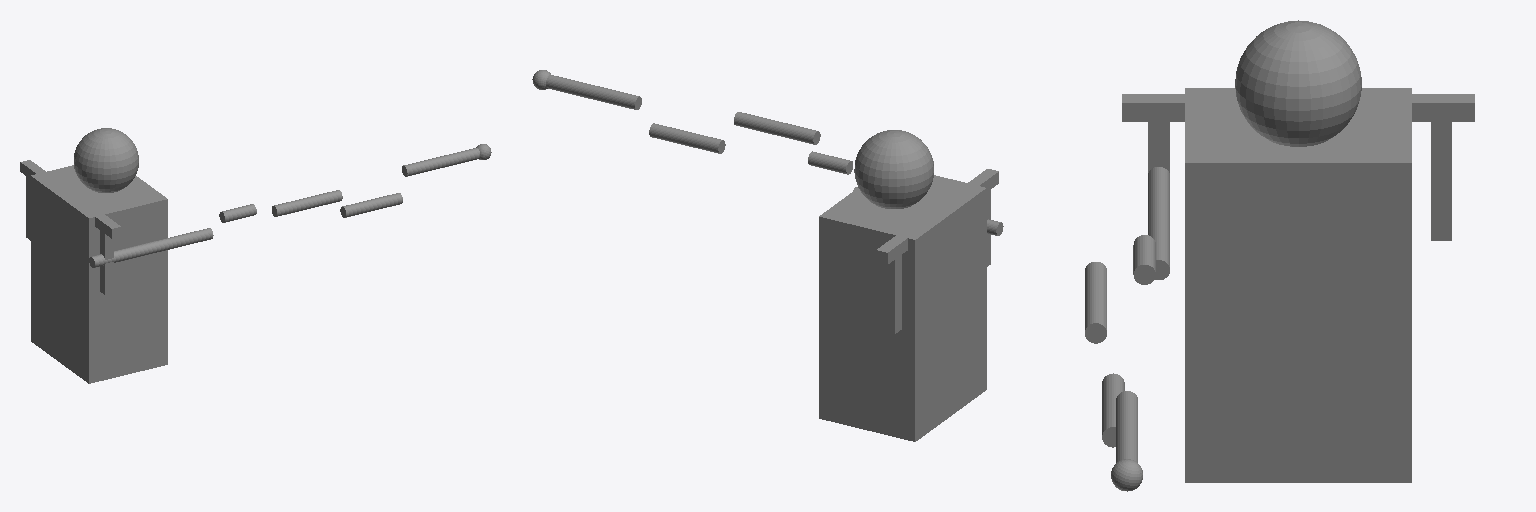
robot.urdf — arm_demo:
<?xml version="1.0" encoding="utf-8"?>
<!-- =================================================================================== -->
<!-- |    This document was autogenerated by xacro from 4dof_robot.xacro               | -->
<!-- |    EDITING THIS FILE BY HAND IS NOT RECOMMENDED                                 | -->
<!-- =================================================================================== -->
<robot name="arm_demo">
  <!-- *************************** XACRO MACROS *************************** -->
  <!-- ************************* ROBOT DEFINITION ************************* -->
  <link name="world"/>
  <link name="shoulder_len">
    <visual>
      <origin rpy="0 0 0" xyz="0 .2475 0"/>
      <geometry>
        <box size="0.03 0.5 0.03"/>
      </geometry>
      <material name="silver">
        <color rgba="0.6 0.6 0.6 1"/>
      </material>
    </visual>
    <collision>
      <origin rpy="0 0 0" xyz="0 -.2475 0"/>
      <geometry>
        <box size="0.03 0.5 0.03"/>
      </geometry>
    </collision>
    <inertial>
      <origin rpy="0 0 0" xyz="0 .2475 0"/>
      <mass value="1.0"/>
      <inertia ixx=".021" ixy="0.0" ixz="0.0" iyy=".021" iyz="0.0" izz=".00015"/>
    </inertial>
  </link>
  <link name="body">
    <visual>
      <origin rpy="0 0 0" xyz=".09 0.2475 -.25"/>
      <geometry>
        <box size="0.25 0.32 .5"/>
      </geometry>
      <material name="silver">
        <color rgba="0.6 0.6 0.6 1"/>
      </material>
    </visual>
    <collision>
      <origin rpy="0 0 0" xyz=".09 0.2475 -.25"/>
      <geometry>
        <box size="0.18 0.32 0.5"/>
      </geometry>
    </collision>
    <inertial>
      <origin rpy="0 0 0" xyz=".09 .2475 -.25"/>
      <mass value="1.0"/>
      <inertia ixx=".112" ixy="0.0" ixz="0.0" iyy=".029" iyz="0.0" izz=".0235"/>
    </inertial>
  </link>
  <link name="head">
    <visual>
      <origin rpy="0 0 0" xyz=".09 0.2475 .09"/>
      <geometry>
        <sphere radius="0.09"/>
      </geometry>
      <material name="silver">
        <color rgba="0.6 0.6 0.6 1"/>
      </material>
    </visual>
    <collision>
      <origin rpy="0 0 0" xyz=".09 0.2475 .09"/>
      <geometry>
        <sphere radius="0.09"/>
      </geometry>
    </collision>
    <inertial>
      <origin rpy="0 0 0" xyz=".09 0.2475 .09"/>
      <mass value="1.0"/>
      <inertia ixx=".00324" ixy="0.0" ixz="0.0" iyy=".00324" iyz="0.0" izz=".00324"/>
    </inertial>
  </link>
  <link name="rodR">
    <visual>
      <origin rpy="0 0 0" xyz="0 .02 -.1"/>
      <geometry>
        <box size="0.03 0.03 0.2"/>
      </geometry>
      <material name="silver">
        <color rgba="0.6 0.6 0.6 1"/>
      </material>
    </visual>
    <collision>
      <origin rpy="0 0 0" xyz="0 -.025 -.1"/>
      <geometry>
        <box size="0.03 0.03 0.2"/>
      </geometry>
    </collision>
    <inertial>
      <origin rpy="0 0 0" xyz="0 -.025 -.1"/>
      <mass value="1.0"/>
      <inertia ixx=".0034" ixy="0.0" ixz="0.0" iyy=".0034" iyz="0.0" izz=".00015"/>
    </inertial>
  </link>
  <link name="rodL">
    <visual>
      <origin rpy="0 0 0" xyz="0 -.025 -.1"/>
      <geometry>
        <box size="0.03 0.03 0.2"/>
      </geometry>
      <material name="silver">
        <color rgba="0.6 0.6 0.6 1"/>
      </material>
    </visual>
    <collision>
      <origin rpy="0 0 0" xyz="0 -.025 -.1"/>
      <geometry>
        <box size="0.03 0.03 0.2"/>
      </geometry>
    </collision>
    <inertial>
      <origin rpy="0 0 0" xyz="0 -.025 -.1"/>
      <mass value="1.0"/>
      <inertia ixx=".0034" ixy="0.0" ixz="0.0" iyy=".0034" iyz="0.0" izz=".00015"/>
    </inertial>
  </link>
  <joint name="right_arm" type="fixed">
    <parent link="world"/>
    <child link="rodR"/>
    <origin rpy="0 0 0" xyz="-.34 0.03 0.5"/>
  </joint>
  <joint name="left_arm" type="fixed">
    <parent link="world"/>
    <child link="rodL"/>
    <origin rpy="0 0 0" xyz="-.34 0.475 0.5"/>
  </joint>
  <joint name="base_base" type="fixed">
    <parent link="world"/>
    <child link="motor1/INPUT_INTERFACE"/>
    <origin rpy="0 0 0" xyz="0 0.03 0.4"/>
  </joint>
  <joint name="base_s" type="fixed">
    <parent link="world"/>
    <child link="ms1/INPUT_INTERFACE"/>
    <origin rpy="0 0 0" xyz="0 0.03 0.4"/>
  </joint>
  <joint name="shoulder" type="fixed">
    <parent link="world"/>
    <child link="shoulder_len"/>
    <origin rpy="0 0 0" xyz="-.34 0 0.5"/>
  </joint>
  <joint name="body" type="fixed">
    <parent link="world"/>
    <child link="body"/>
    <origin rpy="0 0 0" xyz="-.34 0 0.515"/>
  </joint>
  <joint name="head" type="fixed">
    <parent link="world"/>
    <child link="head"/>
    <origin rpy="0 0 0" xyz="-.318 0 0.5"/>
  </joint>
  <link name="motor1/INPUT_INTERFACE">
    <visual>
      <origin rpy="0 0 0" xyz="0 0 0"/>
      <geometry>
        <mesh filename="package://hebi_description/meshes/X5.stl" scale="0.001 0.001 0.001"/>
      </geometry>
      <material name="red">
        <color rgba=".82 0.06 0.06 1"/>
      </material>
    </visual>
    <collision>
      <origin rpy="0 0 0" xyz="0 0 0"/>
      <geometry>
        <mesh filename="package://hebi_description/meshes/X5.stl" scale="0.001 0.001 0.001"/>
      </geometry>
    </collision>
    <inertial>
      <origin rpy="0 0 0" xyz="-0.0142 -0.0031 0.0165"/>
      <mass value="0.322"/>
      <mass value="0.360"/>
      <inertia ixx="0.00015" ixy="0.0000341" ixz="0.0000118" iyy="0.000255" iyz="0.00000229" izz="0.000350"/>
    </inertial>
  </link>
  <joint name="motor1/X5_9" type="continuous">
    <parent link="motor1/INPUT_INTERFACE"/>
    <child link="right_arm1/INPUT_INTERFACE"/>
    <origin rpy="0 0 0" xyz="0 0 0.031"/>
    <axis xyz="0 0 1"/>
    <limit effort="13.0" velocity="14"/>
    <dynamics damping="0.1" friction="0.1"/>
  </joint>
  <gazebo reference="motor1/INPUT_INTERFACE">
    <selfCollide>true</selfCollide>
    <gravity>true</gravity>
    <sensor name="motor1/imu_sensor" type="imu">
      <always_on>true</always_on>
      <update_rate>100</update_rate>
      <visualize>true</visualize>
      <plugin filename="libgazebo_imu_sensor.so" name="imu_plugin">
        <topicName>/hebi_gazebo_plugin/imu/motor1</topicName>
        <bodyName>motor1/imu_link</bodyName>
        <updateRateHZ>10.0</updateRateHZ>
        <gaussianNoise>0.0</gaussianNoise>
        <xyzOffset>0.025 0 0.003</xyzOffset>
        <rpyOffset>0 0 0</rpyOffset>
        <frameName>motor1/imu_link</frameName>
      </plugin>
      <pose>0 0 0 0 0 0</pose>
    </sensor>
  </gazebo>
  <link name="ms1/INPUT_INTERFACE">
    <visual>
      <origin rpy="0 0 0" xyz="0 0 0"/>
      <geometry>
        <mesh filename="package://hebi_description/meshes/A-2039-02.stl"/>
      </geometry>
      <material name="black">
        <color rgba="0 0 0 1"/>
      </material>
    </visual>
    <visual>
      <origin rpy="0 1.57075 0" xyz="-0.2 0.02 0"/>
      <geometry>
        <cylinder length="0.3746" radius=".016"/>
      </geometry>
      <material name="silver">
        <color rgba="0.6 0.6 0.6 1"/>
      </material>
    </visual>
    <collision>
      <origin rpy="0 1.57079632679 0" xyz="0 0 0"/>
      <geometry>
        <mesh filename="package://hebi_description/meshes/A-2038-02.stl"/>
      </geometry>
    </collision>
    <collision>
      <origin rpy="0 1.57075 0" xyz="0.2 -0.02 0"/>
      <geometry>
        <cylinder length="0.3746" radius=".016"/>
      </geometry>
    </collision>
    <collision>
      <origin rpy="0 0 0" xyz="0.4 0.0 0.04"/>
      <geometry>
        <mesh filename="package://hebi_description/meshes/A-2039-02.stl"/>
      </geometry>
    </collision>
    <!-- Approximate inertia as thin rod about x axis -->
    <inertial>
      <origin rpy="0 0 0" xyz="0.2 0 0.02"/>
      <mass value="0.432"/>
      <inertia ixx="0.0" ixy="0.0" ixz="0.0" iyy="0.00576" iyz="0.0" izz="0.00576"/>
    </inertial>
  </link>
  <gazebo reference="ms1/INPUT_INTERFACE">
    <selfCollide>true</selfCollide>
  </gazebo>
  <link name="right_arm1/INPUT_INTERFACE">
    <visual>
      <origin rpy="0 0 0" xyz="0 0 0"/>
      <geometry>
        <mesh filename="package://hebi_description/meshes/A-2038-02.stl"/>
      </geometry>
      <material name="black">
        <color rgba="0 0 0 1"/>
      </material>
    </visual>
    <visual>
      <origin rpy="0 1.57075 0" xyz="0.0625 0 0.02"/>
      <geometry>
        <cylinder length="0.0996" radius=".016"/>
      </geometry>
      <material name="silver">
        <color rgba="0.6 0.6 0.6 1"/>
      </material>
    </visual>
    <visual>
      <origin rpy="1.3343 0 0" xyz="0.125 -0.0194432968708 0.0246859584714"/>
      <geometry>
        <mesh filename="package://hebi_description/meshes/A-2039-02.stl"/>
      </geometry>
      <material name="black">
        <color rgba="0 0 0 1"/>
      </material>
    </visual>
    <collision>
      <origin rpy="0 0 0" xyz="0 0 0"/>
      <geometry>
        <mesh filename="package://hebi_description/meshes/A-2038-02.stl"/>
      </geometry>
    </collision>
    <collision>
      <origin rpy="0 1.57075 0" xyz="0.0625 0 0.02"/>
      <geometry>
        <cylinder length="0.0996" radius=".016"/>
      </geometry>
    </collision>
    <collision>
      <origin rpy="1.3343 0 0" xyz="0.125 -0.0194432968708 0.0246859584714"/>
      <geometry>
        <mesh filename="package://hebi_description/meshes/A-2039-02.stl"/>
      </geometry>
    </collision>
    <!-- Approximate inertia as thin rod about x axis -->
    <inertial>
      <origin rpy="0 0 0" xyz="0.0625 0 0.02"/>
      <mass value="0.322"/>
      <inertia ixx="0.0" ixy="0.0" ixz="0.0" iyy="0.000419270833333" iyz="0.0" izz="0.000419270833333"/>
    </inertial>
  </link>
  <joint name="right_arm1/OUTPUT_JOINT" type="fixed">
    <parent link="right_arm1/INPUT_INTERFACE"/>
    <child link="motor2/INPUT_INTERFACE"/>
    <origin rpy="1.3343 0 0" xyz="0.125 -0.0194432968708 0.0246859584714"/>
  </joint>
  <gazebo reference="right_arm1/INPUT_INTERFACE">
    <selfCollide>true</selfCollide>
  </gazebo>
  <link name="motor2/INPUT_INTERFACE">
    <visual>
      <origin rpy="0 0 0" xyz="0 0 0"/>
      <geometry>
        <mesh filename="package://hebi_description/meshes/X5.stl" scale="0.001 0.001 0.001"/>
      </geometry>
      <material name="red">
        <color rgba=".82 0.06 0.06 1"/>
      </material>
    </visual>
    <collision>
      <origin rpy="0 0 0" xyz="0 0 0"/>
      <geometry>
        <mesh filename="package://hebi_description/meshes/X5.stl" scale="0.001 0.001 0.001"/>
      </geometry>
    </collision>
    <inertial>
      <origin rpy="0 0 0" xyz="-0.0142 -0.0031 0.0165"/>
      <mass value="0.322"/>
      <mass value="0.360"/>
      <inertia ixx="0.00015" ixy="0.0000341" ixz="0.0000118" iyy="0.000255" iyz="0.00000229" izz="0.000350"/>
    </inertial>
  </link>
  <joint name="motor2/X5_9" type="continuous">
    <parent link="motor2/INPUT_INTERFACE"/>
    <child link="right_arm2/INPUT_INTERFACE"/>
    <origin rpy="0 0 0" xyz="0 0 0.031"/>
    <axis xyz="0 0 1"/>
    <limit effort="13.0" velocity="14"/>
    <dynamics damping="0.1" friction="0.1"/>
  </joint>
  <gazebo reference="motor2/INPUT_INTERFACE">
    <selfCollide>true</selfCollide>
    <gravity>true</gravity>
    <sensor name="motor2/imu_sensor" type="imu">
      <always_on>true</always_on>
      <update_rate>100</update_rate>
      <visualize>true</visualize>
      <plugin filename="libgazebo_imu_sensor.so" name="imu_plugin">
        <topicName>/hebi_gazebo_plugin/imu/motor2</topicName>
        <bodyName>motor2/imu_link</bodyName>
        <updateRateHZ>10.0</updateRateHZ>
        <gaussianNoise>0.0</gaussianNoise>
        <xyzOffset>0.025 0 0.003</xyzOffset>
        <rpyOffset>0 0 0</rpyOffset>
        <frameName>motor2/imu_link</frameName>
      </plugin>
      <pose>0 0 0 0 0 0</pose>
    </sensor>
  </gazebo>
  <link name="right_arm2/INPUT_INTERFACE">
    <visual>
      <origin rpy="0 0 0" xyz="0 0 0"/>
      <geometry>
        <mesh filename="package://hebi_description/meshes/A-2038-02.stl"/>
      </geometry>
      <material name="black">
        <color rgba="0 0 0 1"/>
      </material>
    </visual>
    <visual>
      <origin rpy="0 1.57075 0" xyz="0.11585 0 0.02"/>
      <geometry>
        <cylinder length="0.2063" radius=".016"/>
      </geometry>
      <material name="silver">
        <color rgba="0.6 0.6 0.6 1"/>
      </material>
    </visual>
    <visual>
      <origin rpy="2.163 0 0" xyz="0.2317 -0.0165942524924 0.00883618415505"/>
      <geometry>
        <mesh filename="package://hebi_description/meshes/A-2039-02.stl"/>
      </geometry>
      <material name="black">
        <color rgba="0 0 0 1"/>
      </material>
    </visual>
    <collision>
      <origin rpy="0 0 0" xyz="0 0 0"/>
      <geometry>
        <mesh filename="package://hebi_description/meshes/A-2038-02.stl"/>
      </geometry>
    </collision>
    <collision>
      <origin rpy="0 1.57075 0" xyz="0.11585 0 0.02"/>
      <geometry>
        <cylinder length="0.2063" radius=".016"/>
      </geometry>
    </collision>
    <collision>
      <origin rpy="2.163 0 0" xyz="0.2317 -0.0165942524924 0.00883618415505"/>
      <geometry>
        <mesh filename="package://hebi_description/meshes/A-2039-02.stl"/>
      </geometry>
    </collision>
    <!-- Approximate inertia as thin rod about x axis -->
    <inertial>
      <origin rpy="0 0 0" xyz="0.11585 0 0.02"/>
      <mass value="0.36468"/>
      <inertia ixx="0.0" ixy="0.0" ixz="0.0" iyy="0.0016314838071" iyz="0.0" izz="0.0016314838071"/>
    </inertial>
  </link>
  <joint name="right_arm2/OUTPUT_JOINT" type="fixed">
    <parent link="right_arm2/INPUT_INTERFACE"/>
    <child link="motor3/INPUT_INTERFACE"/>
    <origin rpy="2.163 0 0" xyz="0.2317 -0.0165942524924 0.00883618415505"/>
  </joint>
  <gazebo reference="right_arm2/INPUT_INTERFACE">
    <selfCollide>true</selfCollide>
  </gazebo>
  <link name="motor3/INPUT_INTERFACE">
    <visual>
      <origin rpy="0 0 0" xyz="0 0 0"/>
      <geometry>
        <mesh filename="package://hebi_description/meshes/X5.stl" scale="0.001 0.001 0.001"/>
      </geometry>
      <material name="red">
        <color rgba=".82 0.06 0.06 1"/>
      </material>
    </visual>
    <collision>
      <origin rpy="0 0 0" xyz="0 0 0"/>
      <geometry>
        <mesh filename="package://hebi_description/meshes/X5.stl" scale="0.001 0.001 0.001"/>
      </geometry>
    </collision>
    <inertial>
      <origin rpy="0 0 0" xyz="-0.0142 -0.0031 0.0165"/>
      <mass value="0.322"/>
      <mass value="0.360"/>
      <inertia ixx="0.00015" ixy="0.0000341" ixz="0.0000118" iyy="0.000255" iyz="0.00000229" izz="0.000350"/>
    </inertial>
  </link>
  <joint name="motor3/X5_9" type="continuous">
    <parent link="motor3/INPUT_INTERFACE"/>
    <child link="right_arm3/INPUT_INTERFACE"/>
    <origin rpy="0 0 0" xyz="0 0 0.031"/>
    <axis xyz="0 0 1"/>
    <limit effort="13.0" velocity="14"/>
    <dynamics damping="0.1" friction="0.1"/>
  </joint>
  <gazebo reference="motor3/INPUT_INTERFACE">
    <selfCollide>true</selfCollide>
    <gravity>true</gravity>
    <sensor name="motor3/imu_sensor" type="imu">
      <always_on>true</always_on>
      <update_rate>100</update_rate>
      <visualize>true</visualize>
      <plugin filename="libgazebo_imu_sensor.so" name="imu_plugin">
        <topicName>/hebi_gazebo_plugin/imu/motor3</topicName>
        <bodyName>motor3/imu_link</bodyName>
        <updateRateHZ>10.0</updateRateHZ>
        <gaussianNoise>0.0</gaussianNoise>
        <xyzOffset>0.025 0 0.003</xyzOffset>
        <rpyOffset>0 0 0</rpyOffset>
        <frameName>motor3/imu_link</frameName>
      </plugin>
      <pose>0 0 0 0 0 0</pose>
    </sensor>
  </gazebo>
  <link name="right_arm3/INPUT_INTERFACE">
    <visual>
      <origin rpy="0 0 0" xyz="0 0 0"/>
      <geometry>
        <mesh filename="package://hebi_description/meshes/A-2038-02.stl"/>
      </geometry>
      <material name="black">
        <color rgba="0 0 0 1"/>
      </material>
    </visual>
    <visual>
      <origin rpy="0 1.57075 0" xyz="0.1024 0 0.02"/>
      <geometry>
        <cylinder length="0.1794" radius=".016"/>
      </geometry>
      <material name="silver">
        <color rgba="0.6 0.6 0.6 1"/>
      </material>
    </visual>
    <visual>
      <origin rpy="-3.7736 0 0" xyz="0.2048 -0.0118153112202 0.00386313472914"/>
      <geometry>
        <mesh filename="package://hebi_description/meshes/A-2039-02.stl"/>
      </geometry>
      <material name="black">
        <color rgba="0 0 0 1"/>
      </material>
    </visual>
    <collision>
      <origin rpy="0 0 0" xyz="0 0 0"/>
      <geometry>
        <mesh filename="package://hebi_description/meshes/A-2038-02.stl"/>
      </geometry>
    </collision>
    <collision>
      <origin rpy="0 1.57075 0" xyz="0.1024 0 0.02"/>
      <geometry>
        <cylinder length="0.1794" radius=".016"/>
      </geometry>
    </collision>
    <collision>
      <origin rpy="-3.7736 0 0" xyz="0.2048 -0.0118153112202 0.00386313472914"/>
      <geometry>
        <mesh filename="package://hebi_description/meshes/A-2039-02.stl"/>
      </geometry>
    </collision>
    <!-- Approximate inertia as thin rod about x axis -->
    <inertial>
      <origin rpy="0 0 0" xyz="0.1024 0 0.02"/>
      <mass value="0.35392"/>
      <inertia ixx="0.0" ixy="0.0" ixz="0.0" iyy="0.00123704005973" iyz="0.0" izz="0.00123704005973"/>
    </inertial>
  </link>
  <joint name="right_arm3/OUTPUT_JOINT" type="fixed">
    <parent link="right_arm3/INPUT_INTERFACE"/>
    <child link="motor4/INPUT_INTERFACE"/>
    <origin rpy="-3.7736 0 0" xyz="0.2048 -0.0118153112202 0.00386313472914"/>
  </joint>
  <gazebo reference="right_arm3/INPUT_INTERFACE">
    <selfCollide>true</selfCollide>
  </gazebo>
  <link name="motor4/INPUT_INTERFACE">
    <visual>
      <origin rpy="0 0 0" xyz="0 0 0"/>
      <geometry>
        <mesh filename="package://hebi_description/meshes/X5.stl" scale="0.001 0.001 0.001"/>
      </geometry>
      <material name="red">
        <color rgba=".82 0.06 0.06 1"/>
      </material>
    </visual>
    <collision>
      <origin rpy="0 0 0" xyz="0 0 0"/>
      <geometry>
        <mesh filename="package://hebi_description/meshes/X5.stl" scale="0.001 0.001 0.001"/>
      </geometry>
    </collision>
    <inertial>
      <origin rpy="0 0 0" xyz="-0.0142 -0.0031 0.0165"/>
      <mass value="0.322"/>
      <mass value="0.335"/>
      <inertia ixx="0.00015" ixy="0.0000341" ixz="0.0000118" iyy="0.000255" iyz="0.00000229" izz="0.000350"/>
    </inertial>
  </link>
  <joint name="motor4/X5_4" type="continuous">
    <parent link="motor4/INPUT_INTERFACE"/>
    <child link="sensor/INPUT_INTERFACE"/>
    <origin rpy="0 0 0" xyz="0 0 0.031"/>
    <axis xyz="0 0 1"/>
    <limit effort="7.0" velocity="32"/>
    <dynamics damping="0.1" friction="0.1"/>
  </joint>
  <gazebo reference="motor4/INPUT_INTERFACE">
    <selfCollide>true</selfCollide>
    <gravity>true</gravity>
    <sensor name="motor4/imu_sensor" type="imu">
      <always_on>true</always_on>
      <update_rate>100</update_rate>
      <visualize>true</visualize>
      <plugin filename="libgazebo_imu_sensor.so" name="imu_plugin">
        <topicName>/hebi_gazebo_plugin/imu/motor4</topicName>
        <bodyName>motor4/imu_link</bodyName>
        <updateRateHZ>10.0</updateRateHZ>
        <gaussianNoise>0.0</gaussianNoise>
        <xyzOffset>0.025 0 0.003</xyzOffset>
        <rpyOffset>0 0 0</rpyOffset>
        <frameName>motor4/imu_link</frameName>
      </plugin>
      <pose>0 0 0 0 0 0</pose>
    </sensor>
  </gazebo>
  <link name="sensor/INPUT_INTERFACE">
    <visual>
      <origin rpy="0 0 0" xyz="0 0 0"/>
      <geometry>
        <mesh filename="package://hebi_description/meshes/A-2038-02.stl"/>
      </geometry>
      <material name="black">
        <color rgba="0 0 0 1"/>
      </material>
    </visual>
    <visual>
      <origin rpy="0 1.57075 0" xyz="0.12795 0 0.02"/>
      <geometry>
        <cylinder length="0.2305" radius=".016"/>
      </geometry>
      <material name="silver">
        <color rgba="0.6 0.6 0.6 1"/>
      </material>
    </visual>
    <visual>
      <origin rpy="0 0 0" xyz="0.2609 0 0.02"/>
      <geometry>
        <sphere radius="0.023"/>
      </geometry>
      <material name="silver">
        <color rgba="0.6 0.6 0.6 1"/>
      </material>
    </visual>
    <collision>
      <origin rpy="0 0 0" xyz="0 0 0"/>
      <geometry>
        <mesh filename="package://hebi_description/meshes/A-2038-02.stl"/>
      </geometry>
    </collision>
    <collision>
      <origin rpy="0 1.57075 0" xyz="0.12795 0 0.02"/>
      <geometry>
        <cylinder length="0.2305" radius=".016"/>
      </geometry>
    </collision>
    <collision>
      <origin rpy="0 0 0" xyz="0.2559 0 0.02"/>
      <geometry>
        <sphere radius="0.02"/>
      </geometry>
    </collision>
    <!-- Approximate inertia as thin rod about x axis -->
    <inertial>
      <origin rpy="0 0 0" xyz="0.12795 0 0.02"/>
      <mass value="0.37436"/>
      <inertia ixx="0.0" ixy="0.0" ixz="0.0" iyy="0.0020429077893" iyz="0.0" izz="0.0020429077893"/>
    </inertial>
  </link>
  <joint name="end_joint" type="fixed">
    <parent link="sensor/INPUT_INTERFACE"/>
    <child link="end_link/INPUT_INTERFACE"/>
    <origin rpy="0 0 0" xyz="0.2559 0 0.02"/>
  </joint>
  <gazebo reference="sensor/INPUT_INTERFACE">
    <selfCollide>true</selfCollide>
  </gazebo>
  <!-- end link -->
  <link name="end_link/INPUT_INTERFACE">
  </link>
  <gazebo reference="base">
    <selfCollide>true</selfCollide>
  </gazebo>
  <gazebo>
    <plugin filename="libhebi_gazebo_plugin.so" name="hebi_gazebo_plugin">
    </plugin>
  </gazebo>
</robot>

--- Render facts (derived) ---
Views: 3 orthographic renders of the robot side by side, from view 1: azimuth 30°, elevation 25°; view 2: azimuth 150°, elevation 25°; view 3: azimuth 270°, elevation 25°.
Model arm_demo with 16 links and 15 joints (4 continuous, 11 fixed), rooted at world, posed all joints at 0.
Visible links, largest first — view 1: body, head, ms1/INPUT_INTERFACE, sensor/INPUT_INTERFACE, shoulder_len, right_arm2/INPUT_INTERFACE, rodR, right_arm3/INPUT_INTERFACE; view 2: body, head, sensor/INPUT_INTERFACE, shoulder_len, rodL, right_arm2/INPUT_INTERFACE, right_arm3/INPUT_INTERFACE, right_arm1/INPUT_INTERFACE; view 3: body, head, shoulder_len, rodL, sensor/INPUT_INTERFACE, ms1/INPUT_INTERFACE, right_arm2/INPUT_INTERFACE, right_arm3/INPUT_INTERFACE, right_arm1/INPUT_INTERFACE, rodR.
Boxes of the visible links, x1,y1,x2,y2 form: body: [31, 165, 167, 383]; head: [74, 128, 138, 192]; ms1/INPUT_INTERFACE: [89, 228, 213, 267]; sensor/INPUT_INTERFACE: [402, 144, 491, 176]; shoulder_len: [20, 160, 120, 238]; right_arm2/INPUT_INTERFACE: [272, 190, 342, 216]; rodR: [100, 226, 113, 294]; right_arm3/INPUT_INTERFACE: [340, 193, 402, 217]; body: [819, 175, 986, 441]; head: [854, 130, 933, 208]; sensor/INPUT_INTERFACE: [532, 70, 641, 109]; shoulder_len: [876, 169, 998, 264]; rodL: [883, 254, 901, 333]; right_arm2/INPUT_INTERFACE: [734, 112, 820, 144]; right_arm3/INPUT_INTERFACE: [649, 123, 725, 153]; right_arm1/INPUT_INTERFACE: [808, 151, 852, 174]; body: [1185, 88, 1411, 482]; head: [1235, 20, 1361, 146]; shoulder_len: [1122, 94, 1474, 121]; rodL: [1431, 113, 1451, 240]; sensor/INPUT_INTERFACE: [1111, 391, 1142, 491]; ms1/INPUT_INTERFACE: [1148, 167, 1169, 279]; right_arm2/INPUT_INTERFACE: [1085, 262, 1106, 343]; right_arm3/INPUT_INTERFACE: [1102, 373, 1124, 447]; right_arm1/INPUT_INTERFACE: [1133, 235, 1155, 284]; rodR: [1148, 114, 1169, 172].
Size in the robot's own frame: 1.23 by 0.5525 by 0.665 metres.
0 mesh visuals loaded from 3 distinct referenced files (none loaded); not drawn: 12 (reference not matched to a file when rendering).